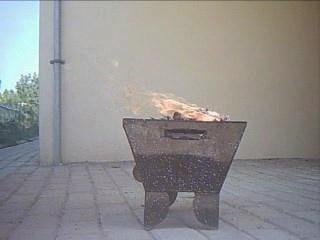fire: (111, 59, 244, 137)
